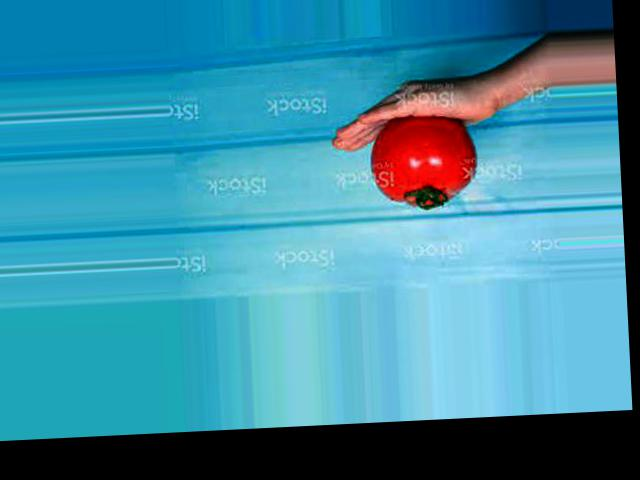tomato: (368, 112, 476, 209)
